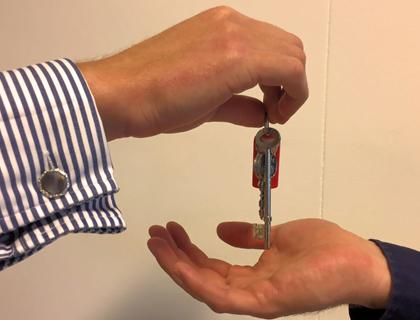keys: (249, 109, 287, 255)
